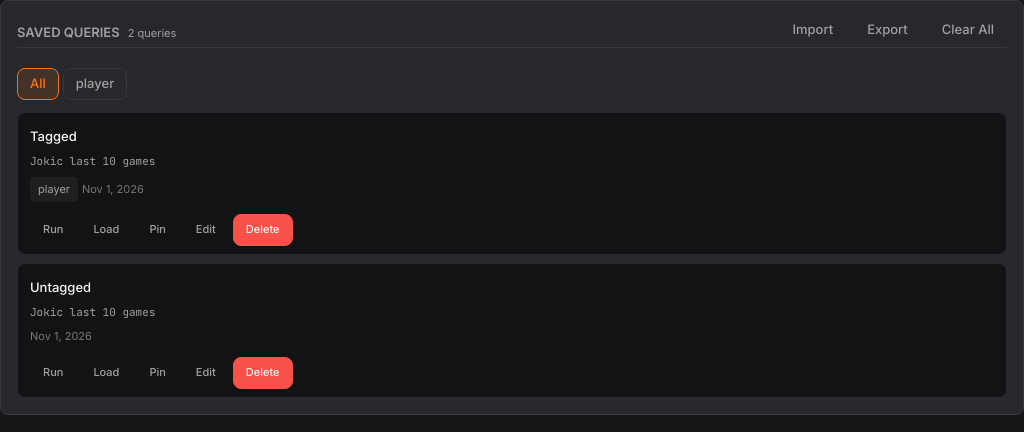
Test: SavedQueries panel › filters queries by tag
Note: Click the "player" filter (the first one is in the filter bar)
Click the button "player".
click(95, 84)  # box [63,68,127,100]
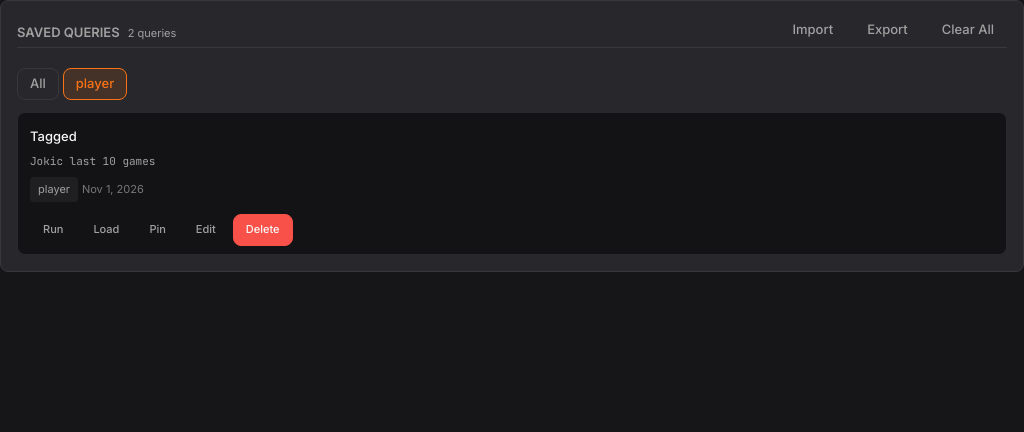
Expected: the button "Tagged" is shown, [30,128,77,144]
Expected: the button "Untagged" is gone
